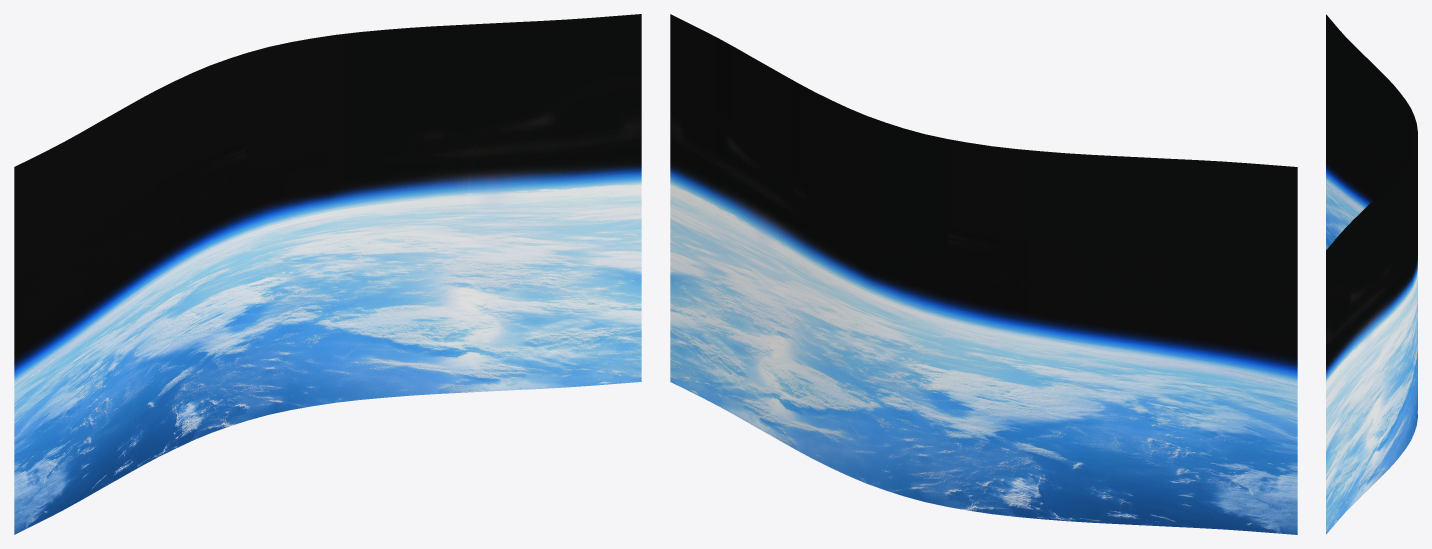
File: background.glb
3 views of the same model, side by side, from view 1: azimuth 30°, elevation 25°; view 2: azimuth 150°, elevation 25°; view 3: azimuth 270°, elevation 25° (orthographic). The views are drawn at different scales.
Parts seen in each view (by area): view 1: ltkmn_spaceship_view_of_earth_bulkhead_window_fc7ecf36-57f8-; view 2: ltkmn_spaceship_view_of_earth_bulkhead_window_fc7ecf36-57f8-; view 3: ltkmn_spaceship_view_of_earth_bulkhead_window_fc7ecf36-57f8-.
Boxes of the visible parts, x1,y1,x2,y2 form: ltkmn_spaceship_view_of_earth_bulkhead_window_fc7ecf36-57f8-: (14,14,641,534); ltkmn_spaceship_view_of_earth_bulkhead_window_fc7ecf36-57f8-: (670,14,1297,534); ltkmn_spaceship_view_of_earth_bulkhead_window_fc7ecf36-57f8-: (1326,14,1417,534).
Size of the model in its own units: 16.85 by 9.44 by 2.77.
Materials: 1 (1 with a texture image).
